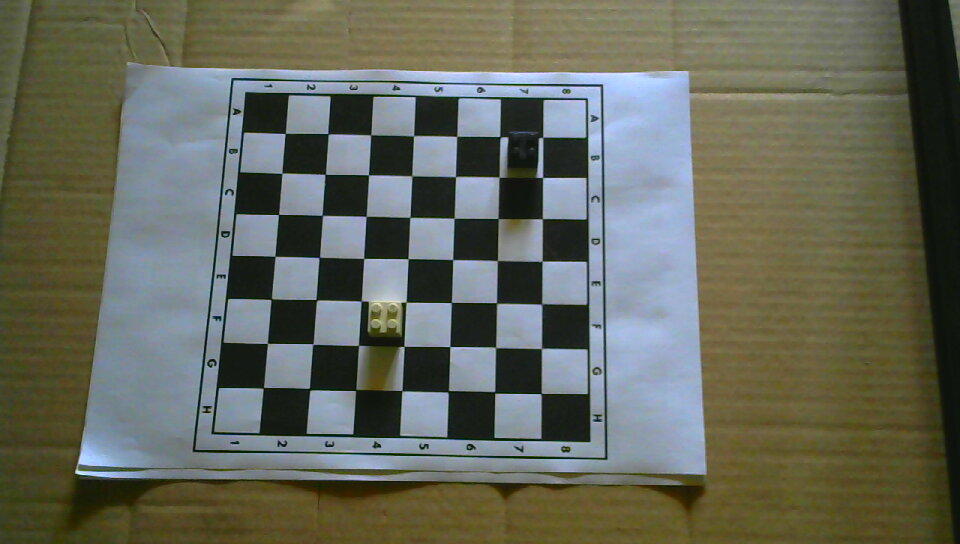bp: (506, 129, 540, 171)
wp: (366, 299, 404, 340)
